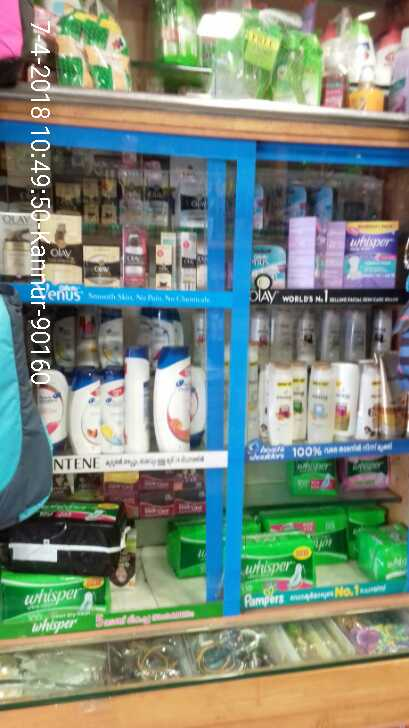venus: (251, 242, 286, 289), (274, 183, 306, 216), (312, 185, 340, 219), (255, 183, 269, 229)
